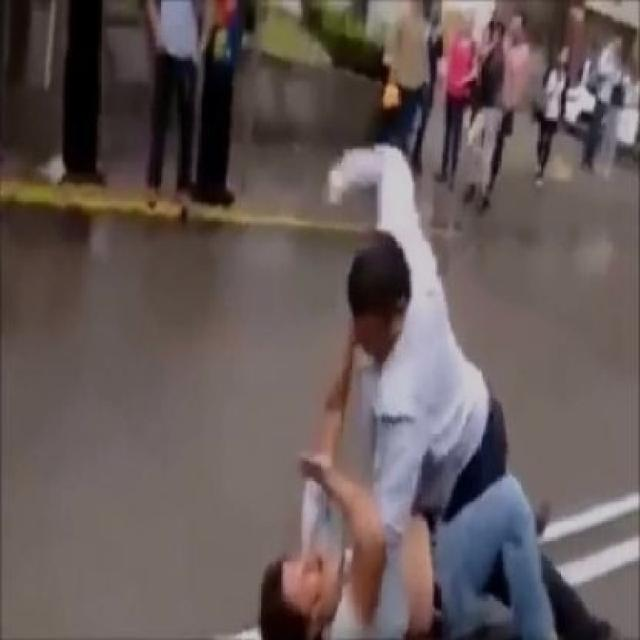fight: (246, 127, 631, 640)
non-fight: (461, 1, 535, 212), (136, 0, 203, 211), (189, 0, 247, 208), (368, 0, 432, 159), (432, 7, 482, 193), (532, 43, 574, 186)
